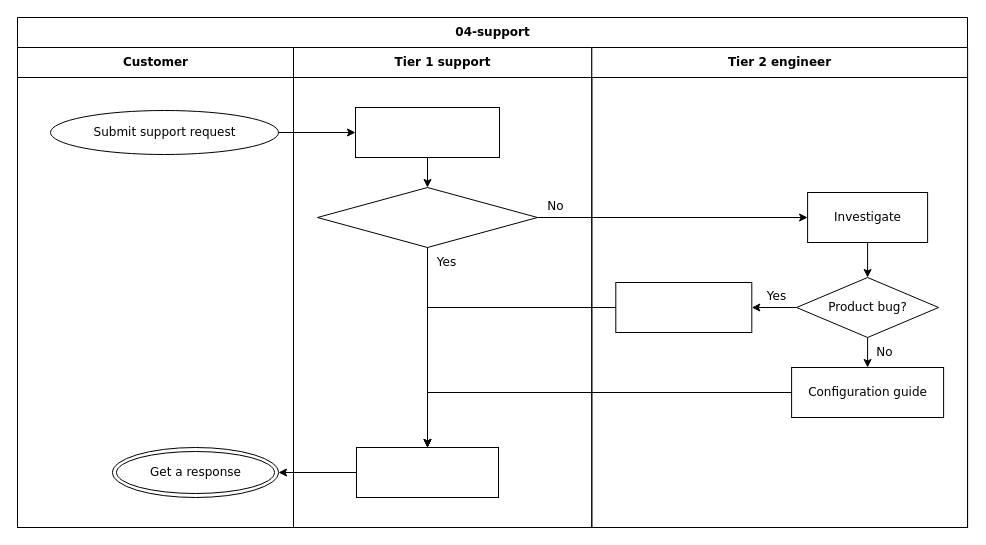
This 986x545 diagram has some shape labels left out. Here are the shapes that lost their labels. From the top down, the centre of each, then its label:
At pixel 427 132: "Triage the request".
At pixel 427 217: "Solvable right away?".
At pixel 683 307: "Create bug ticket".
At pixel 427 472: "Reply to customer".
